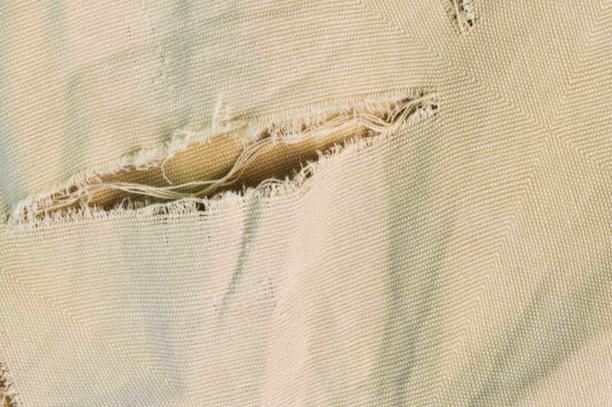hole: (3, 86, 447, 245)
